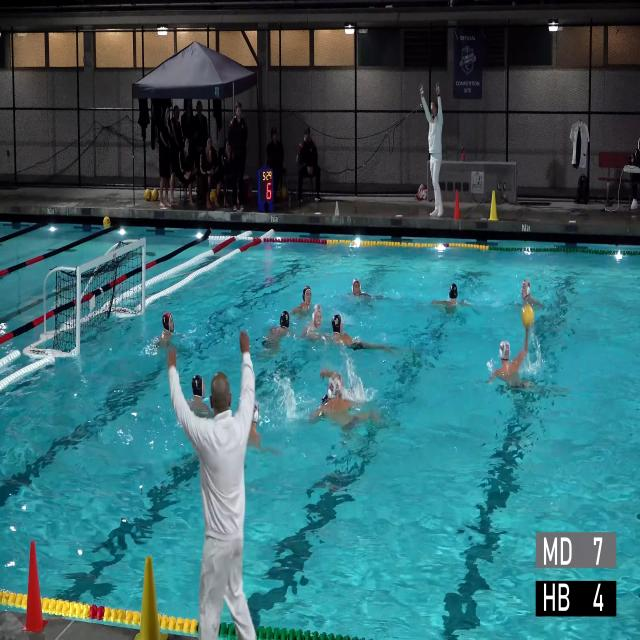ball: (521, 304, 534, 326), (103, 216, 111, 228), (144, 189, 152, 201), (152, 189, 159, 201), (210, 190, 216, 203)
